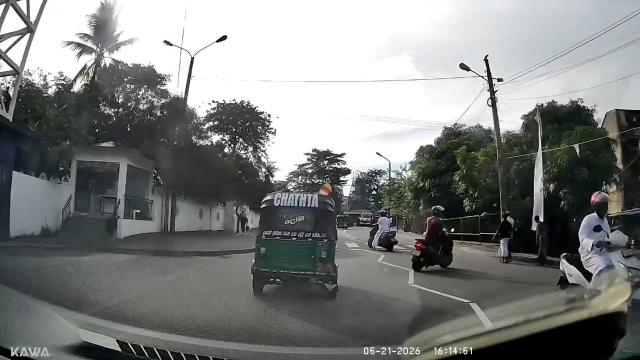illegal u turn: (365, 209, 401, 254)
